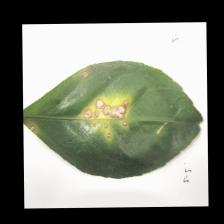canker: (66, 92, 153, 142)
